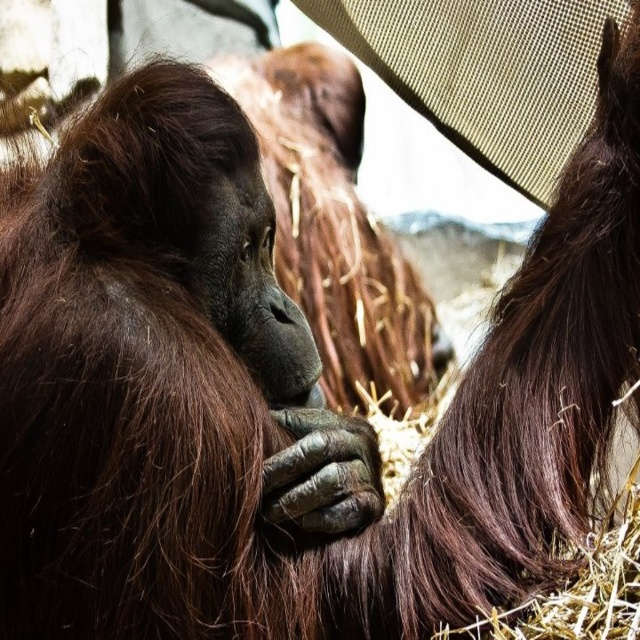Monkey: (38, 17, 510, 640)
